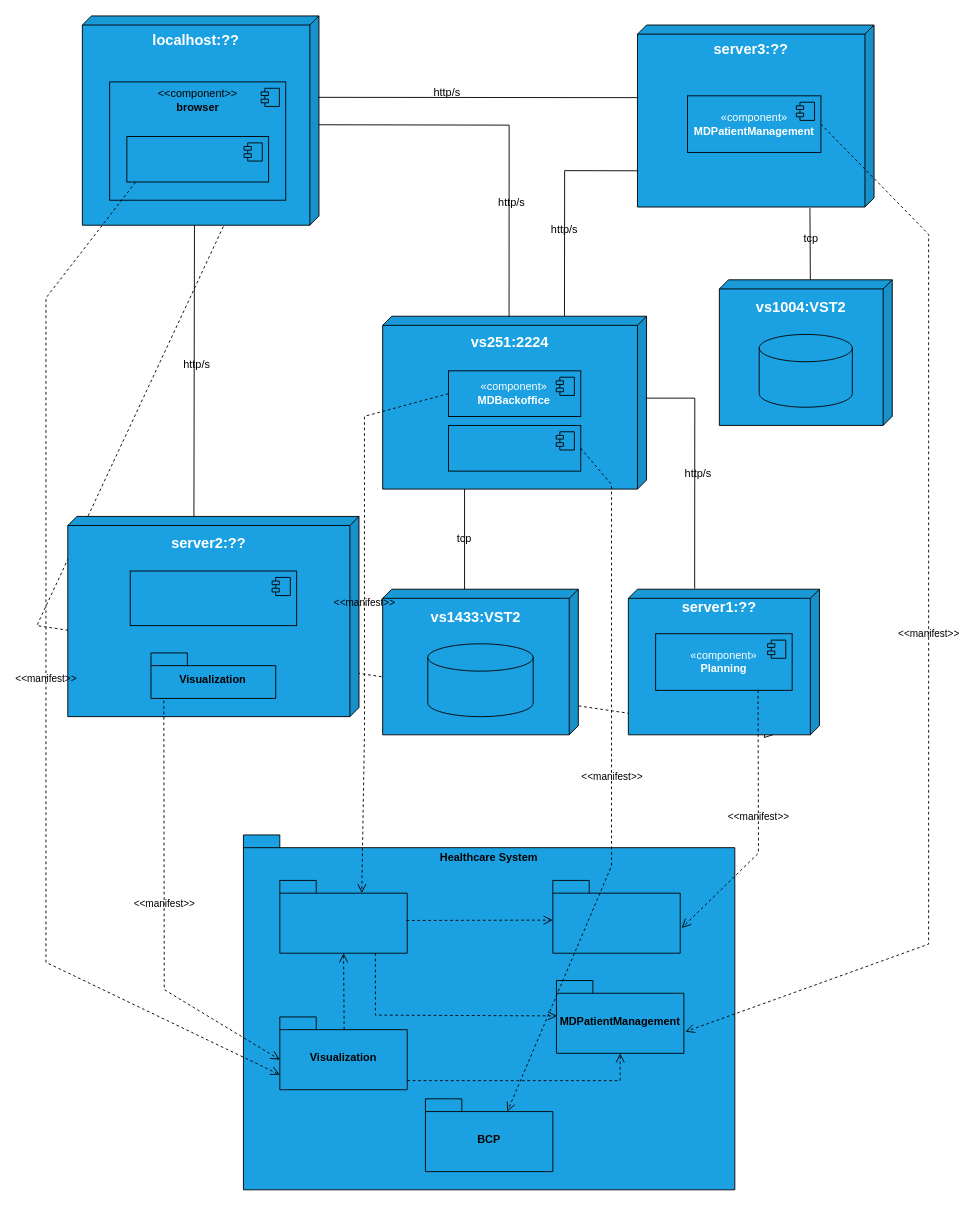
This 975x1206 diagram has some shape labels left out. Each missing label, with the centre of its shape:
<<Database>> MongoDB: pixel 805 370
<<Database>> MySQL: pixel 480 680
MDBackoffice: pixel 343 916
Planning: pixel 616 916
«component» BCP: pixel 514 448
«component» HttpServer: pixel 213 598
«component» UI: pixel 197 159
